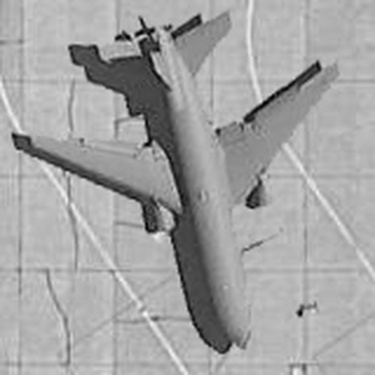airplane: (13, 6, 344, 355)
